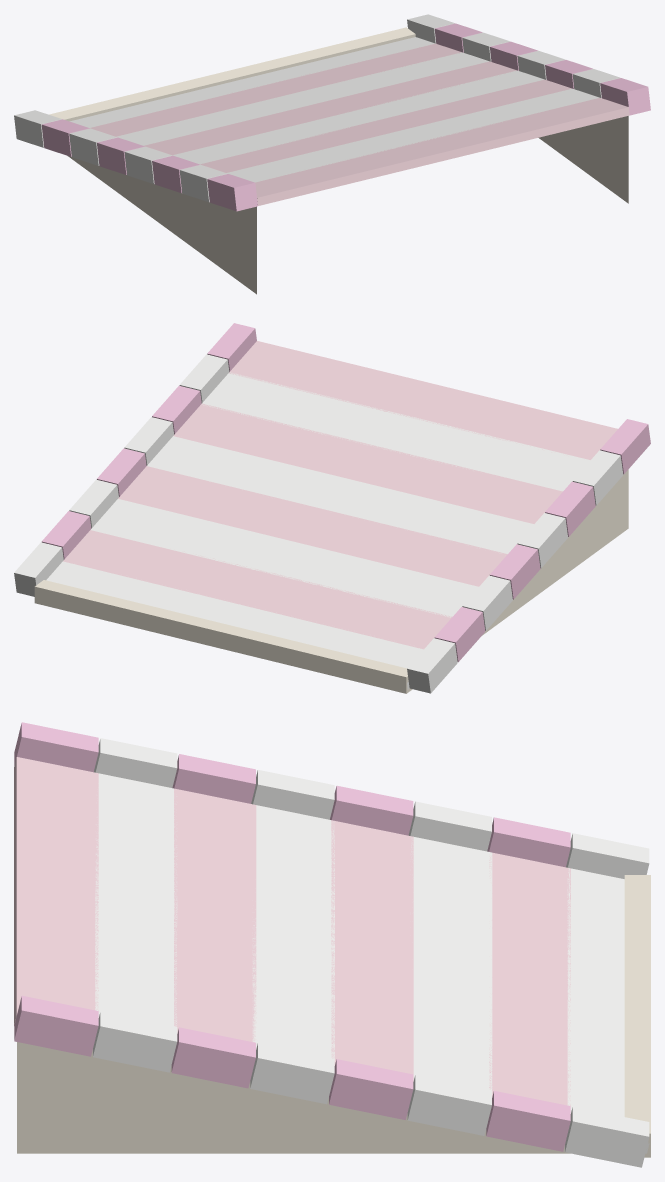
Rendered from draha_klesani.glb.
3 renders of one model, top to bottom at view 1: azimuth 30°, elevation 25°; view 2: azimuth 150°, elevation 25°; view 3: azimuth 270°, elevation 25°, orthographic. The views are drawn at different scales.
Parts seen in each view (by area): view 1: DrahaRampa_white, DrahaRampa_pink, DrahaRampa_cream, DrahaRampa_lol; view 2: DrahaRampa_white, DrahaRampa_pink, DrahaRampa_cream, DrahaRampa_lol; view 3: DrahaRampa_white, DrahaRampa_pink, DrahaRampa_cream, DrahaRampa_lol.
Boxes of the visible parts, left/top/right/bottom form: DrahaRampa_white: left=14, top=14, right=620, bottom=202; DrahaRampa_pink: left=89, top=43, right=629, bottom=205; DrahaRampa_cream: left=49, top=27, right=628, bottom=294; DrahaRampa_lol: left=41, top=23, right=650, bottom=211; DrahaRampa_white: left=14, top=354, right=623, bottom=693; DrahaRampa_pink: left=63, top=341, right=617, bottom=649; DrahaRampa_cream: left=34, top=469, right=628, bottom=693; DrahaRampa_lol: left=41, top=323, right=650, bottom=662; DrahaRampa_white: left=93, top=738, right=649, bottom=1167; DrahaRampa_pink: left=14, top=757, right=570, bottom=1105; DrahaRampa_cream: left=17, top=875, right=650, bottom=1157; DrahaRampa_lol: left=14, top=722, right=570, bottom=1151.
Size of the model in its own units: 7.8 by 2.04 by 7.28.
